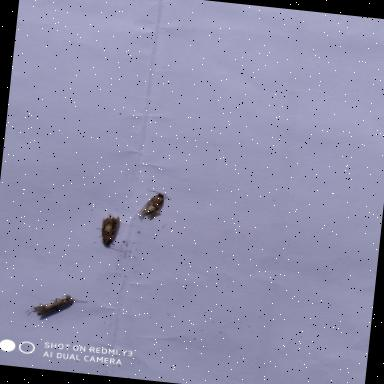pbw: (20, 288, 90, 326), (133, 184, 179, 229), (93, 213, 133, 259)
